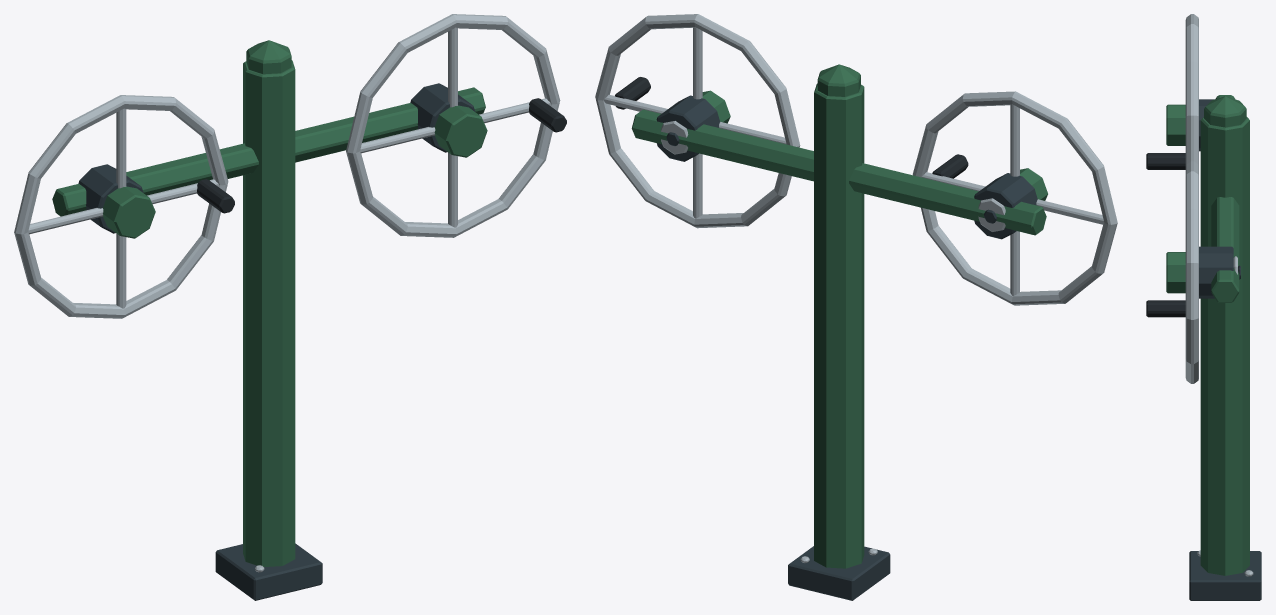
File: b09_shoulder_rotation_wheels.glb
The picture shows the model from 3 angles, left to right: view 1: azimuth 30°, elevation 25°; view 2: azimuth 150°, elevation 25°; view 3: azimuth 270°, elevation 25°; orthographic projection. The views are drawn at different scales.
Parts seen in each view (by area): view 1: b09_shoulder_rotation_wheels; view 2: b09_shoulder_rotation_wheels; view 3: b09_shoulder_rotation_wheels.
Boxes of the visible parts, <box> form: b09_shoulder_rotation_wheels: <box>14,14,566,600</box>; b09_shoulder_rotation_wheels: <box>595,14,1117,600</box>; b09_shoulder_rotation_wheels: <box>1146,14,1261,600</box>.
Bounding box in the file's own units: 1.74 × 1.64 × 0.35.
